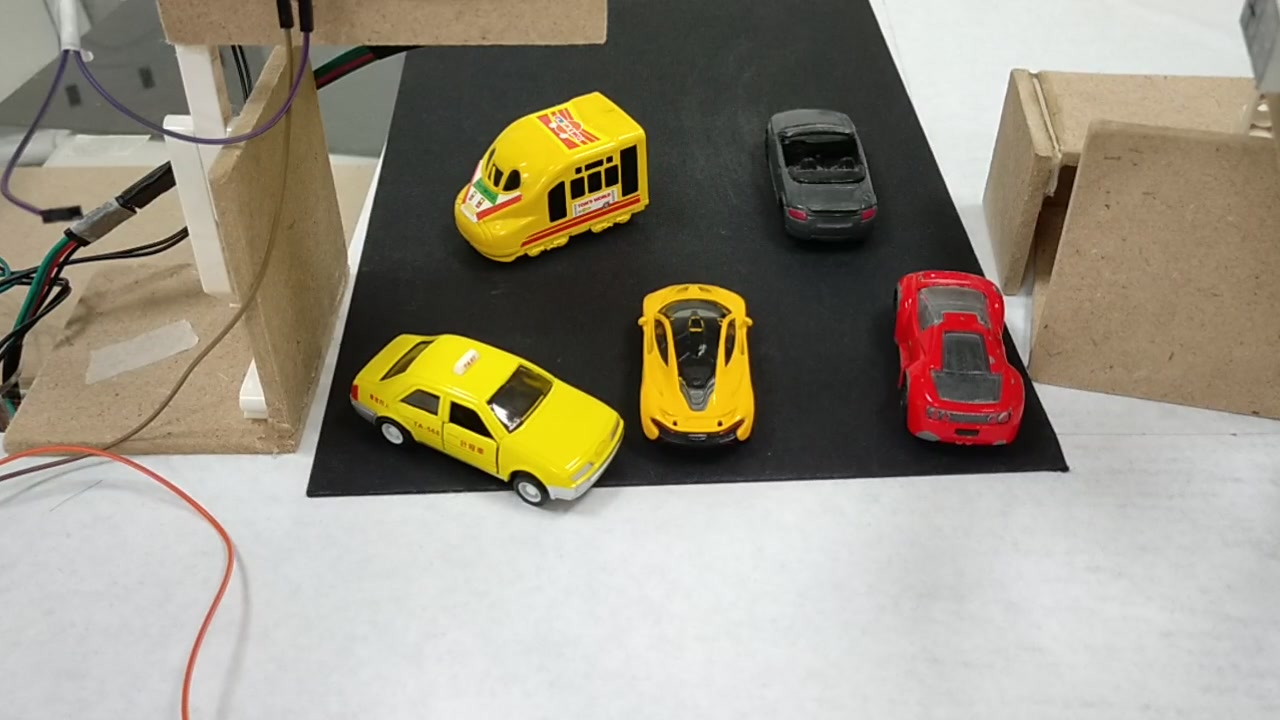car: (334, 328, 627, 520), (890, 262, 1021, 449), (630, 288, 753, 453), (755, 104, 875, 245)
